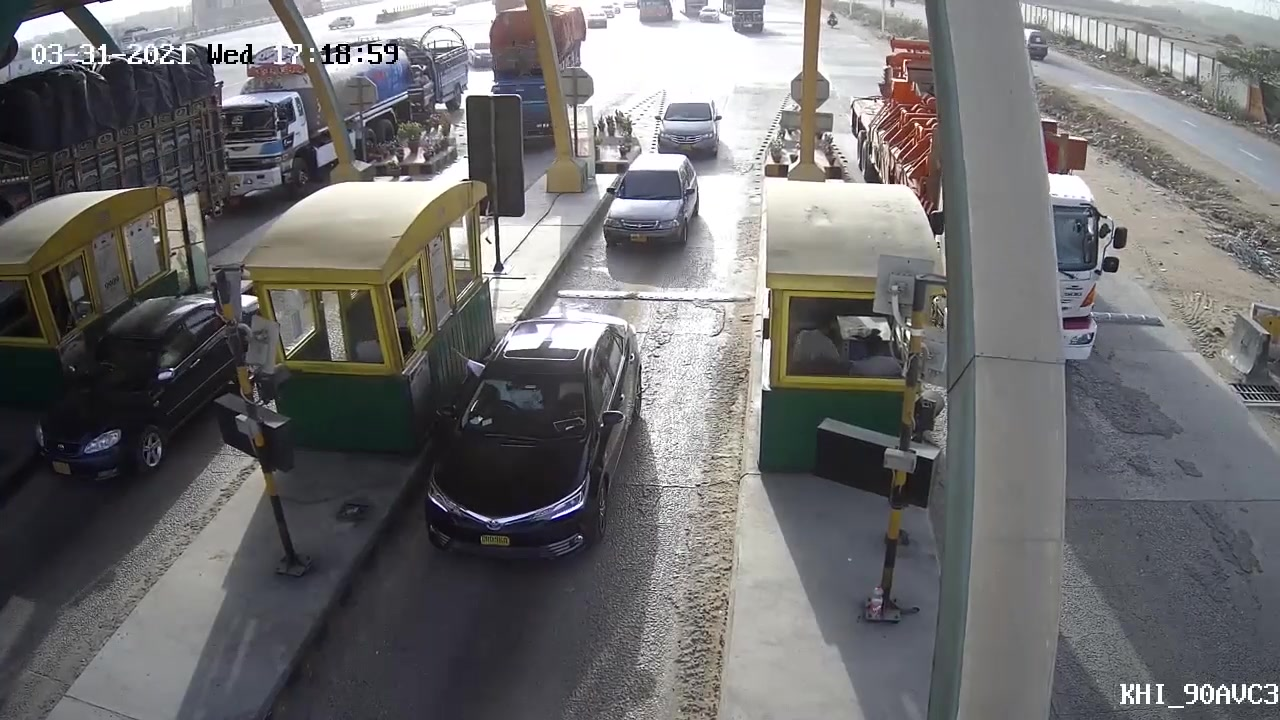F1: (417, 308, 648, 583), (598, 152, 702, 254)
